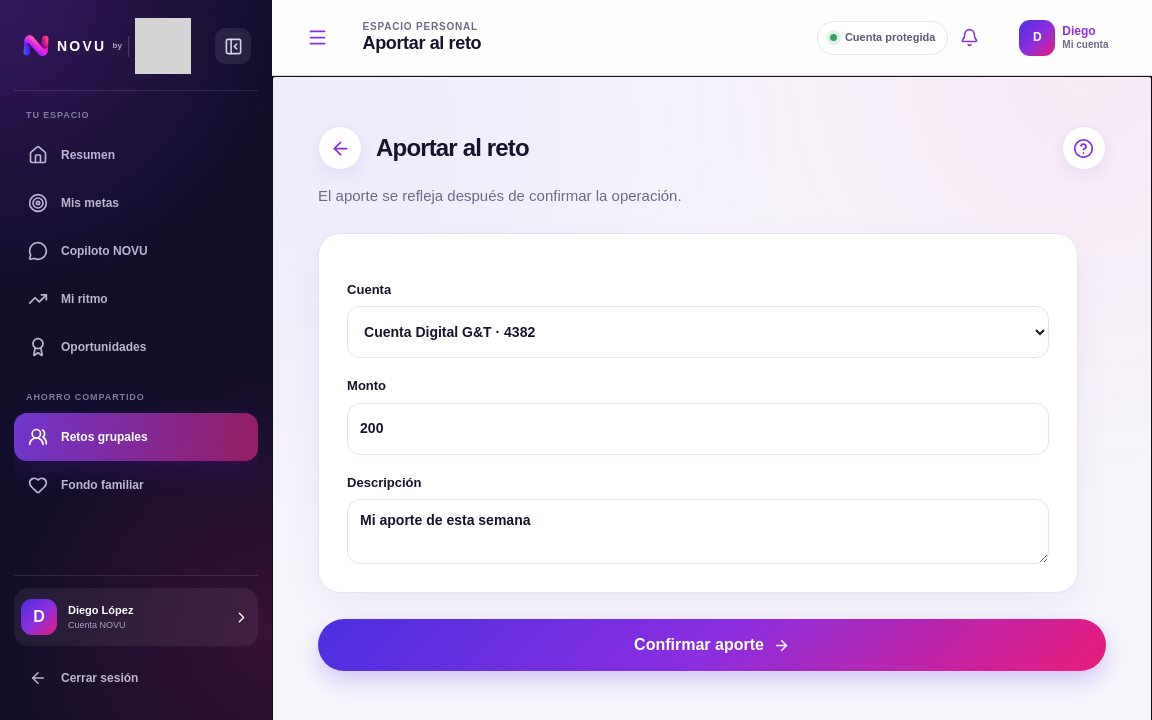
Test: aportes persistentes › registra un aporte al reto y lo muestra en su historial
Replace the text in the number field labelled "Monto" with "321" at (698, 429), box [347,403,1049,455]
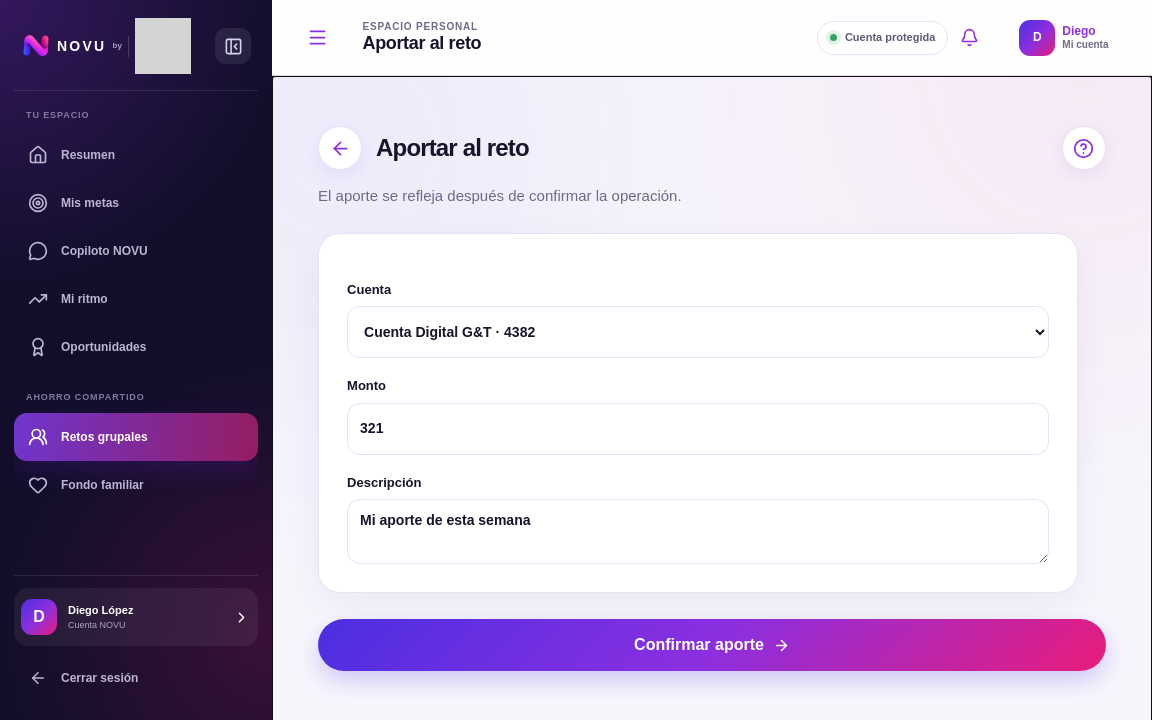
Replace the text in the text box labelled "Descripción" with "Aporte al reto de prueba" at (698, 532), box [347,499,1049,564]
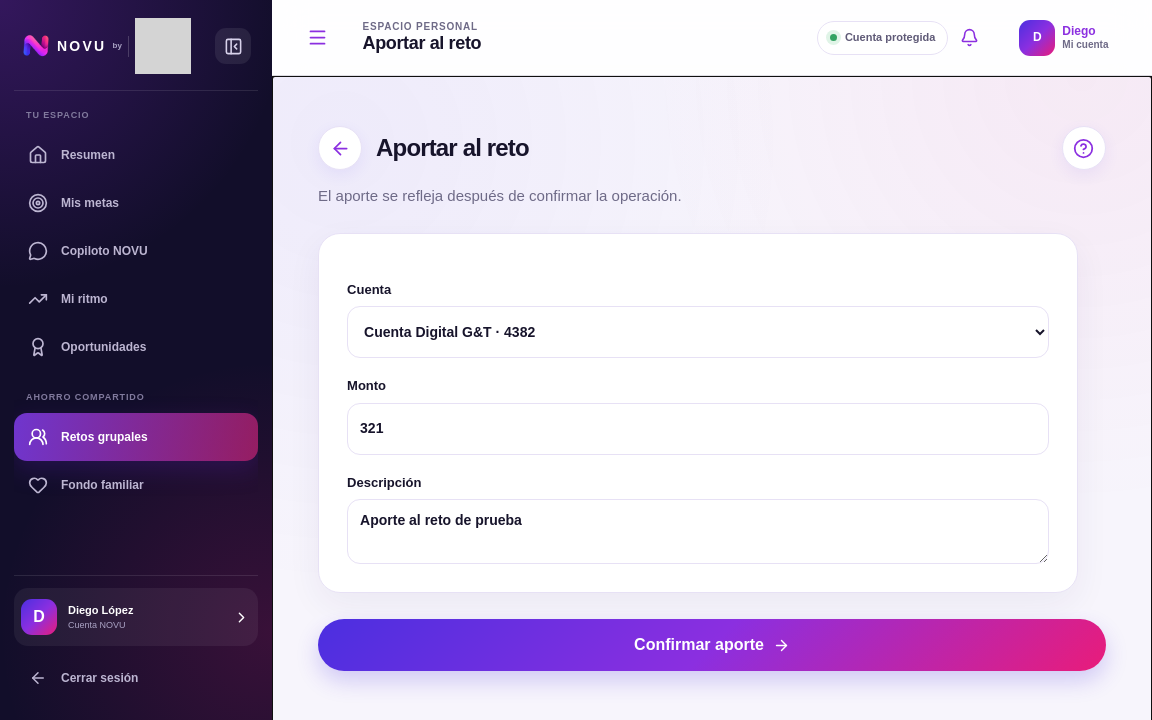
Click the button "Confirmar aporte".
click(712, 645)  # box [318,619,1106,671]
(page scrolled)
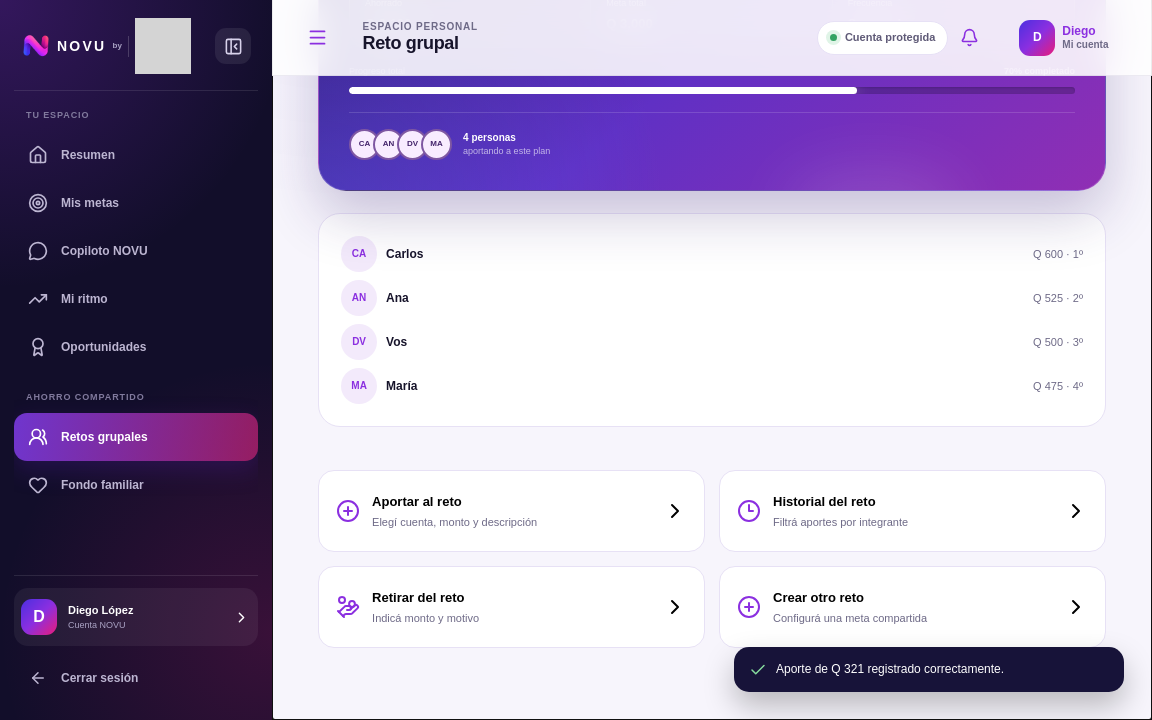
Click the button "Historial del reto Filtrá aportes por integrante".
click(824, 501)  # box [719,470,1106,552]
(page scrolled)
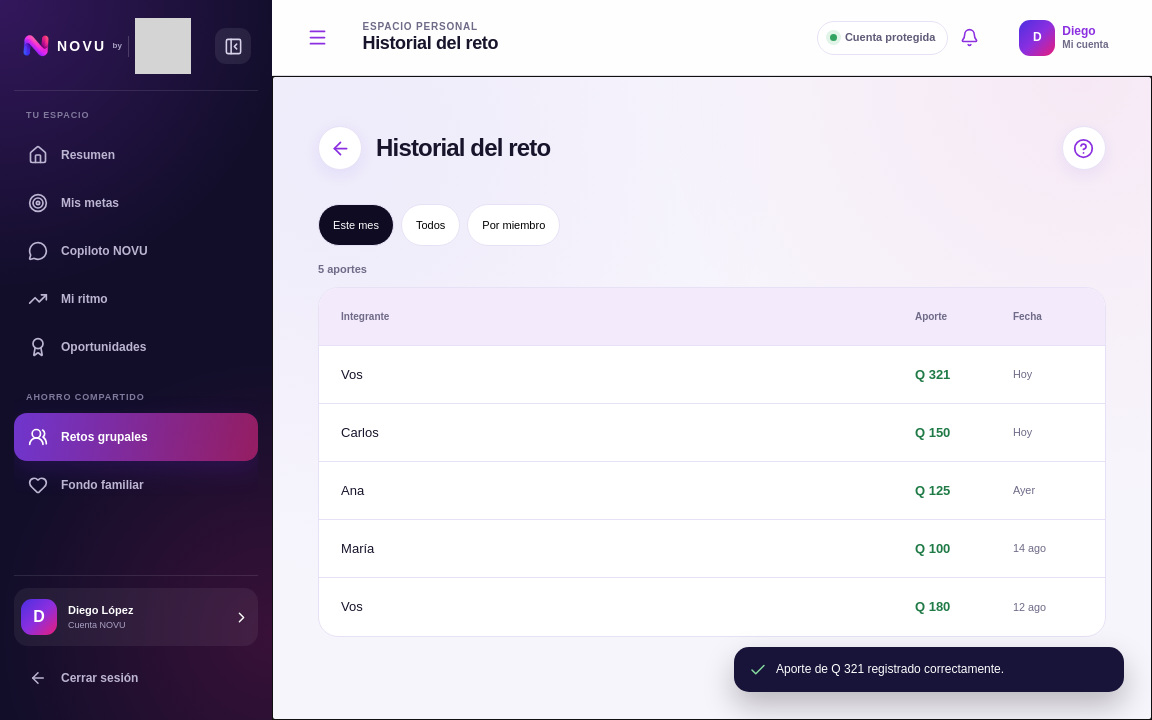
Check: the text "Q 321" is shown, box [915,366,950,382]
